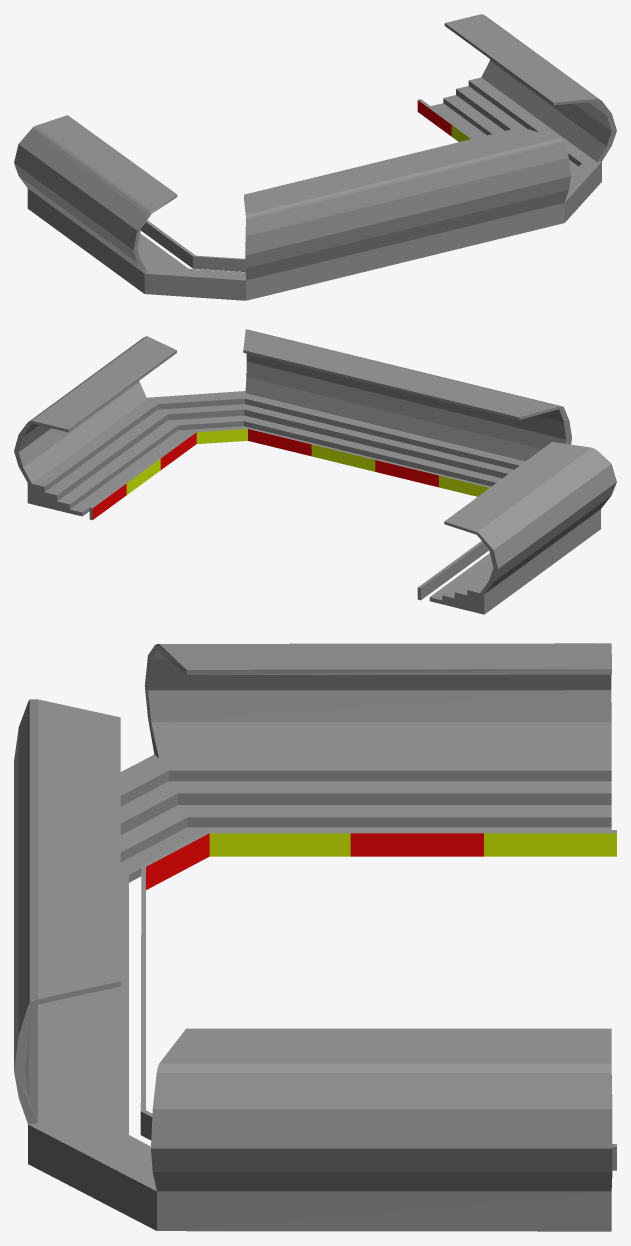
The model's file is estadio.FBX.
3 views of the same model, one above another, from view 1: azimuth 30°, elevation 25°; view 2: azimuth 150°, elevation 25°; view 3: azimuth 270°, elevation 25° (orthographic). The views are drawn at different scales.
Parts seen in each view (by area): view 1: Group001; view 2: Group001; view 3: Group001.
Boxes of the visible parts, x1,y1,x2,y2 form: Group001: (14,14,616,300); Group001: (14,329,616,614); Group001: (14,643,616,1231).
Size of the model in its own units: 33122 by 5467 by 18238.
